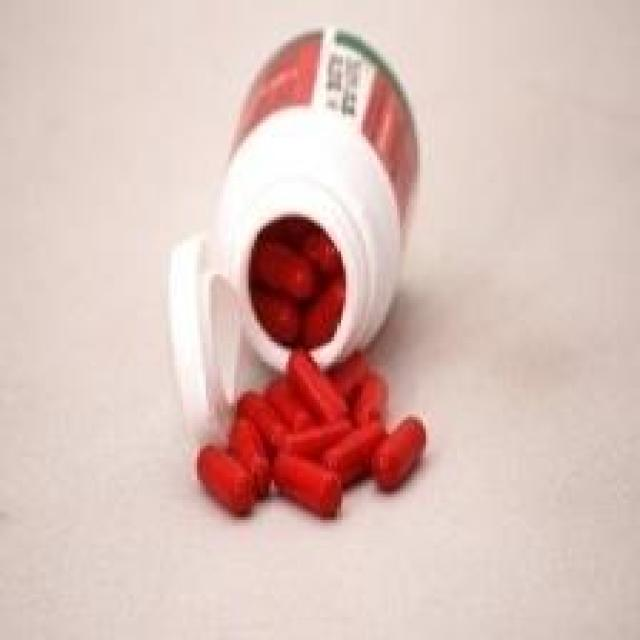Medicine: (140, 23, 484, 523)
